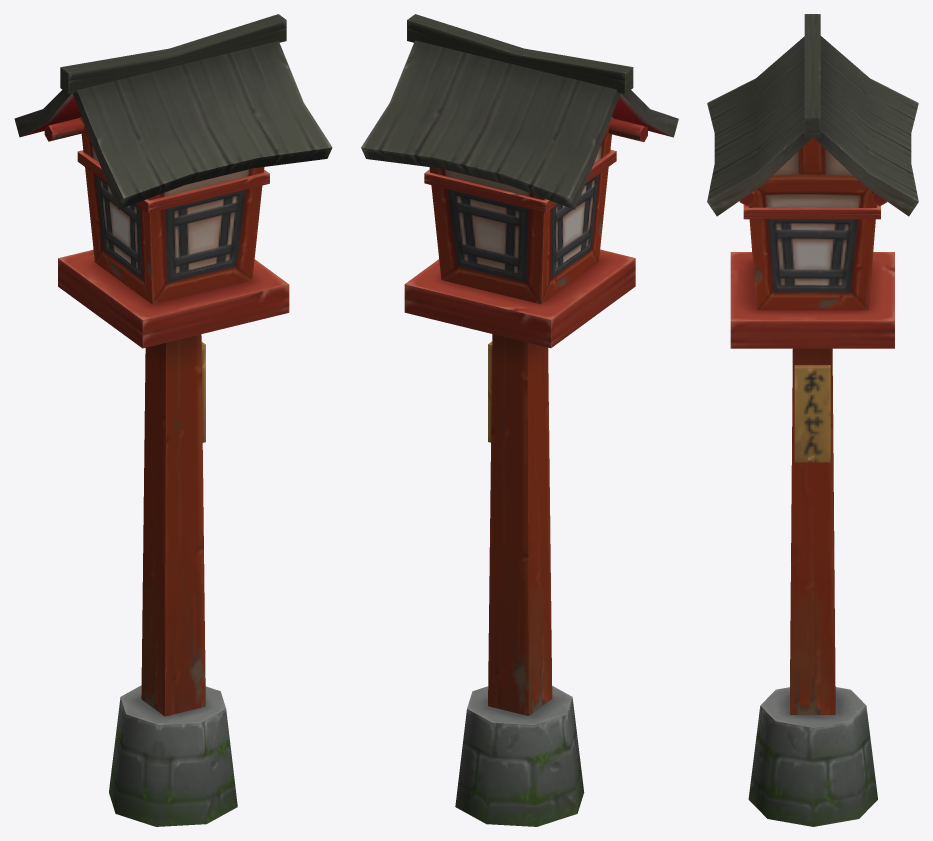
The picture shows the model from 3 angles, left to right: view 1: azimuth 30°, elevation 25°; view 2: azimuth 150°, elevation 25°; view 3: azimuth 270°, elevation 25°; orthographic projection. The views are drawn at different scales.
Visible parts, largest first — view 1: wq_jz008_04_b; view 2: wq_jz008_04_b; view 3: wq_jz008_04_b.
Part boxes in pixels (x1=…): wq_jz008_04_b: x1=14, y1=14, x2=332, y2=826; wq_jz008_04_b: x1=361, y1=14, x2=678, y2=826; wq_jz008_04_b: x1=707, y1=14, x2=918, y2=826.
Size of the model in its own units: 67.09 by 222 by 58.17.
1 material, 1 textured.
